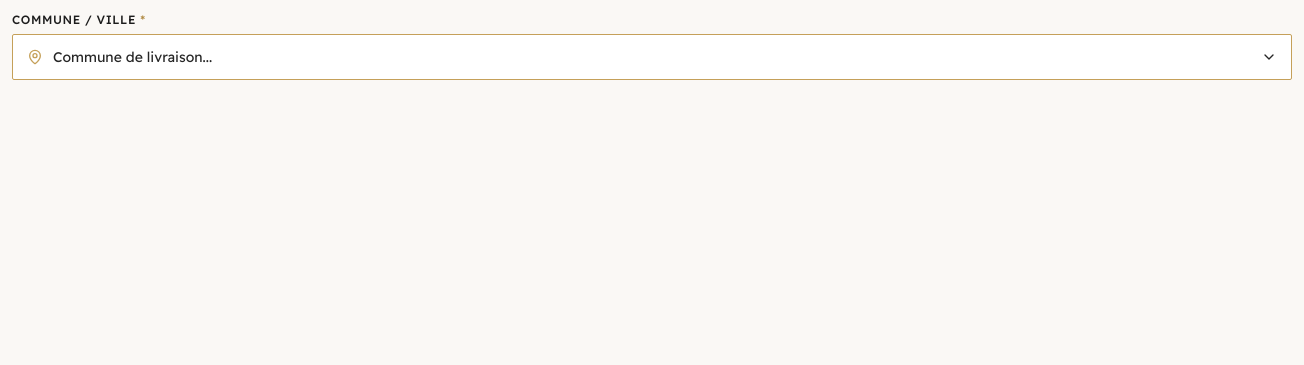
Test case: Algerian 68 Wilayas & Baladiyat (Communes) Complete Suite › CommuneSelector Component UX › shows baladiyat in dropdown and calls onChange when a commune is clicked
The width and height of the screenshot is (1304, 365).
Later steps or results of the test are not shown.
Click the dropdown at (133,57), box [12,34,1292,80]
(page scrolled)
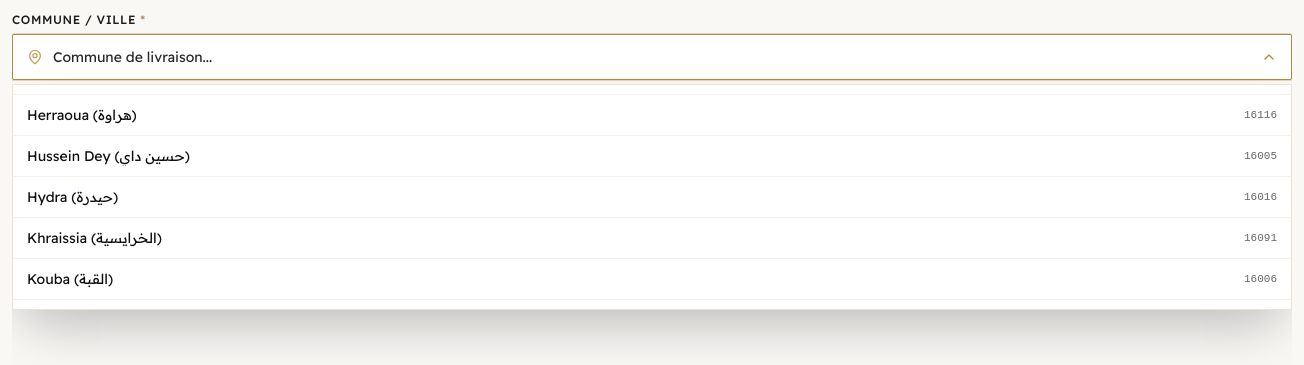
Check: the text "Hydra (حيدرة)" is shown, box [27,187,118,207]
